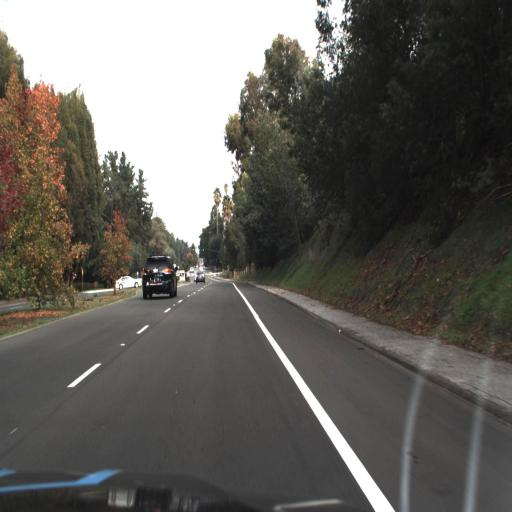car: (143, 254, 178, 300), (117, 274, 142, 290), (193, 267, 207, 288)
